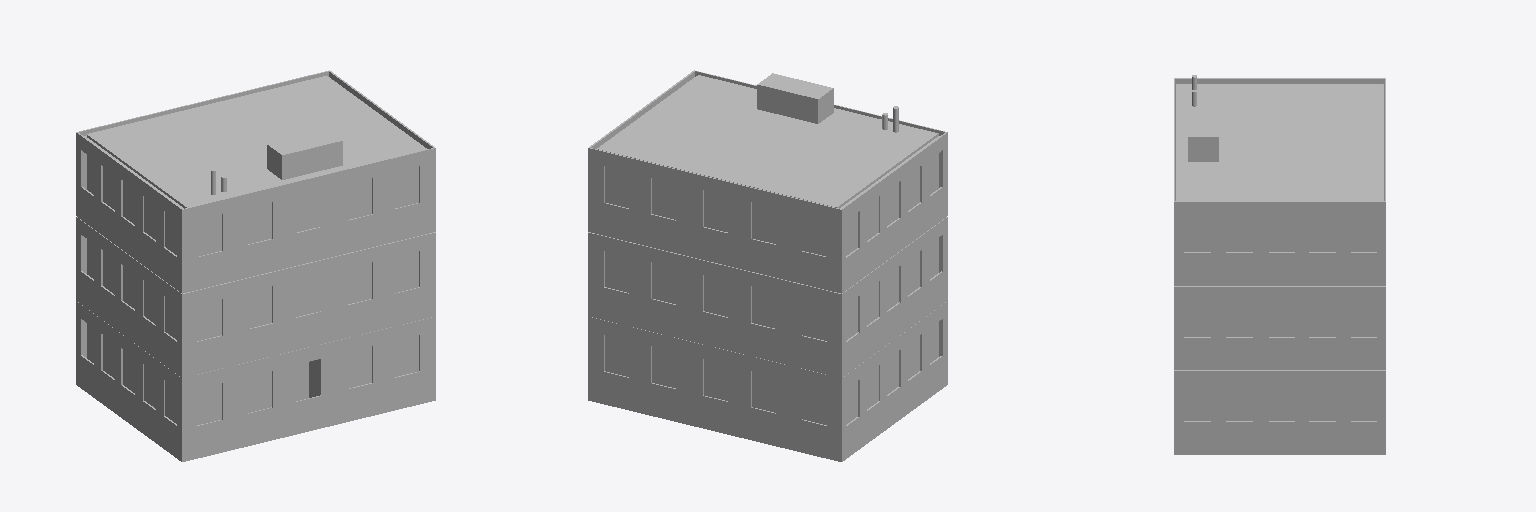
The model's file is buildin.obj.
3 views of the same model, side by side, from view 1: azimuth 30°, elevation 25°; view 2: azimuth 150°, elevation 25°; view 3: azimuth 270°, elevation 25° (orthographic).
Visible parts, largest first — view 1: Plane, window_Cube.007, Cube_Cube.008; view 2: Plane, window_Cube.007, Cube_Cube.008; view 3: Plane, window_Cube.007, Cube_Cube.008, roof_Plane.001.
Boxes of the visible parts, x1,y1,x2,y2 form: Plane: [76, 70, 435, 461]; window_Cube.007: [87, 76, 426, 424]; Cube_Cube.008: [267, 129, 342, 179]; Plane: [588, 70, 947, 461]; window_Cube.007: [598, 75, 938, 424]; Cube_Cube.008: [757, 73, 833, 123]; Plane: [1174, 78, 1385, 454]; window_Cube.007: [1178, 84, 1379, 420]; Cube_Cube.008: [1188, 107, 1218, 161]; roof_Plane.001: [1176, 84, 1383, 200].
Size of the model in its own units: 6.89 by 7.22 by 4.99.